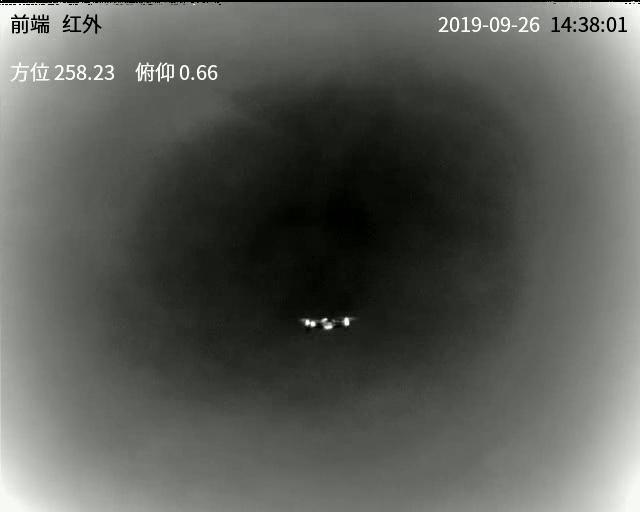DRONE: (302, 313, 357, 332)
